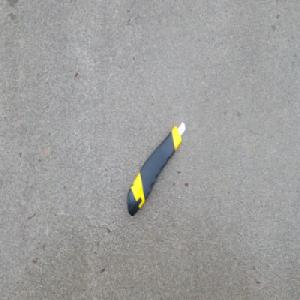Cutter: (126, 119, 186, 218)
